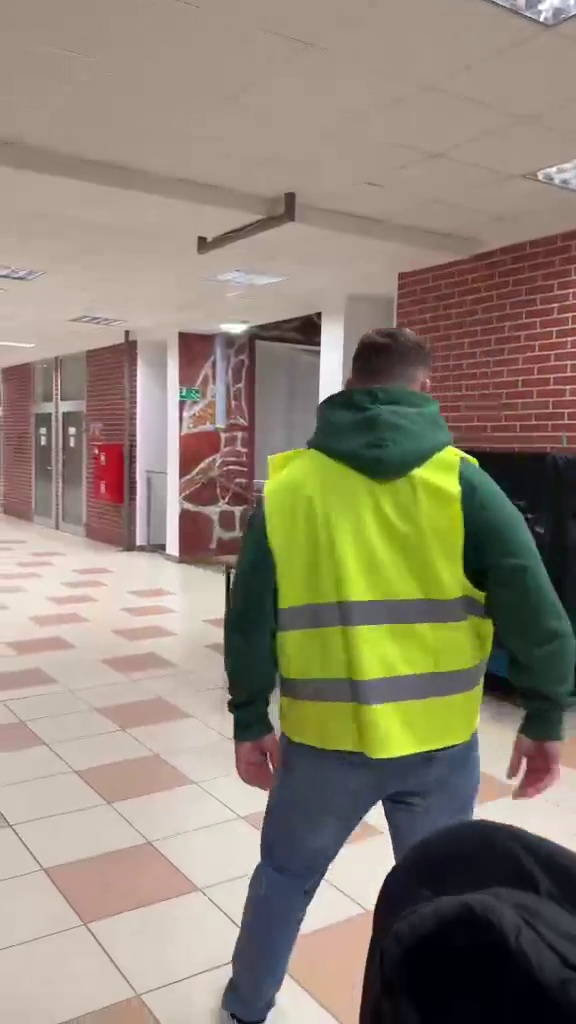vest: (216, 308, 575, 1012)
